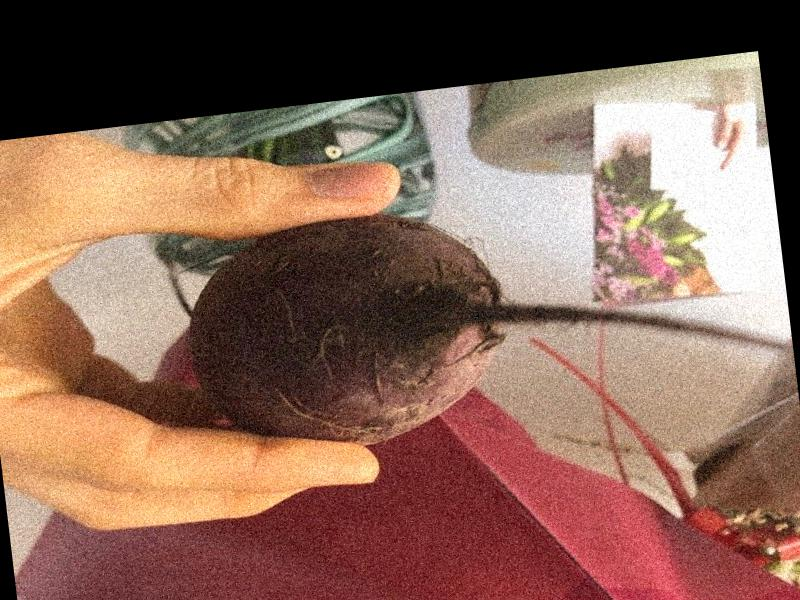Beet: (168, 166, 798, 464)
